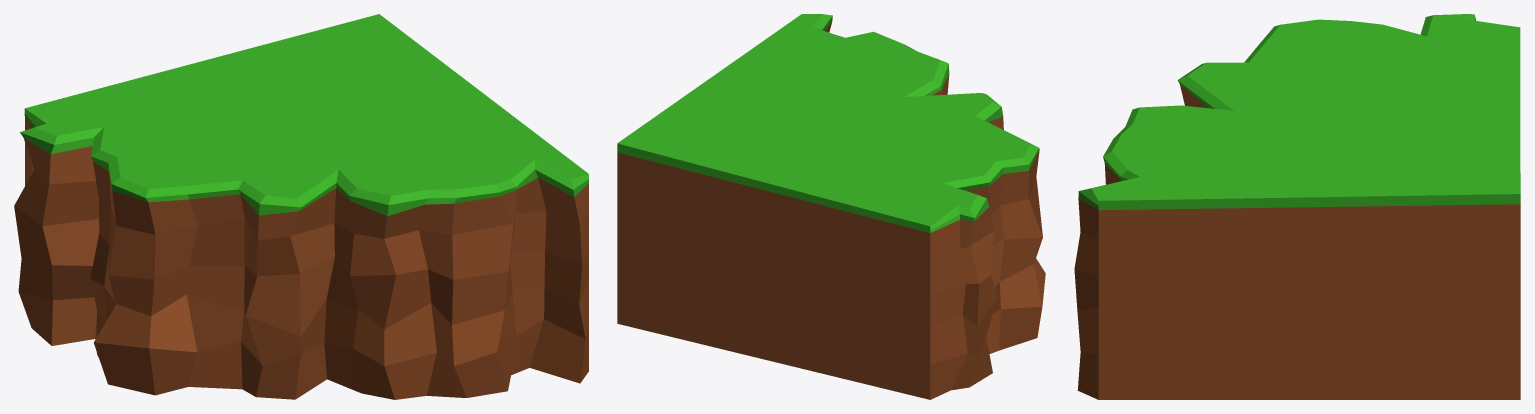
File: rocks2.glb
3 renders of one model, left to right at view 1: azimuth 30°, elevation 25°; view 2: azimuth 150°, elevation 25°; view 3: azimuth 270°, elevation 25°, orthographic. The views are drawn at different scales.
Visible parts, largest first — view 1: Plane; view 2: Plane; view 3: Plane.
Boxes of the visible parts, x1,y1,x2,y2 form: Plane: [14, 14, 588, 399]; Plane: [617, 14, 1045, 399]; Plane: [1074, 14, 1520, 399].
Size of the model in its own units: 2.84 by 1.45 by 2.81.
